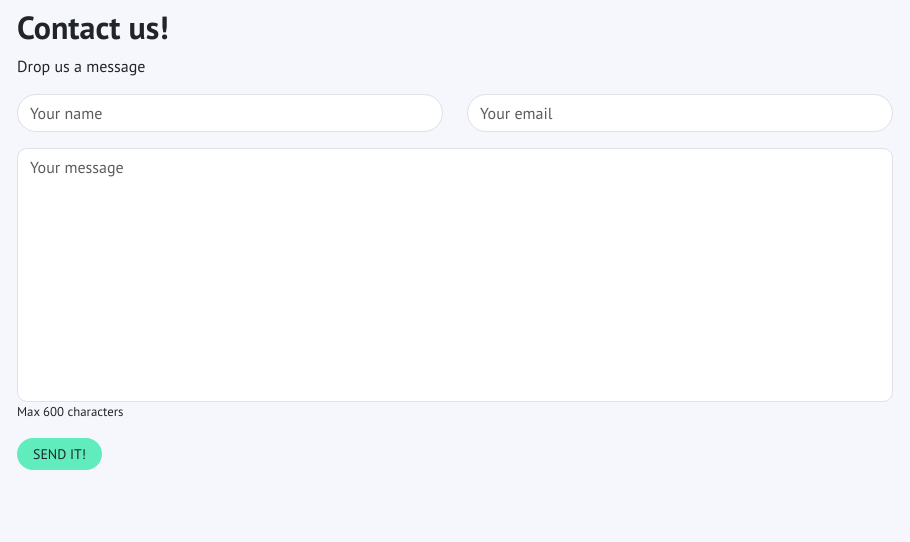
Test: Contact form › display errors if inputs are not correct
Expected: the field with placeholder "Your email" is shown, [467, 94, 893, 132]
Expected: the text box with placeholder "Your message" is shown, [17, 148, 893, 402]
In the field with placeholder "Your name": (230, 113) [17, 94, 443, 132], type "a"
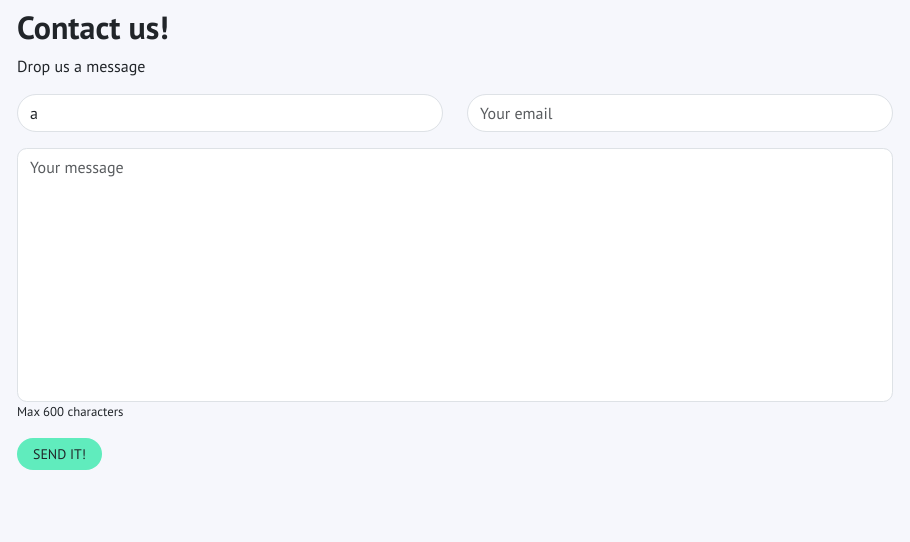
In the field with placeholder "Your email": (680, 113) [467, 94, 893, 132], type "email"
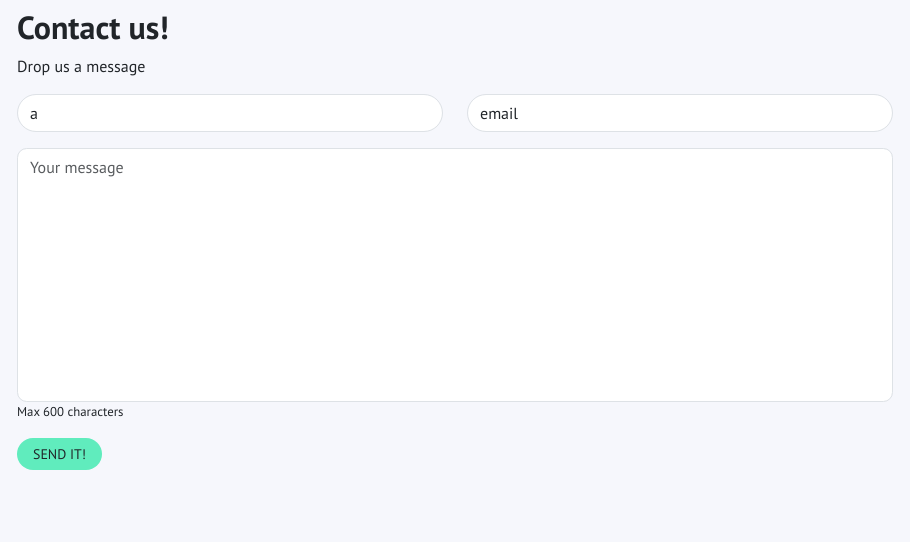
In the text box with placeholder "Your message": (455, 275) [17, 148, 893, 402], type "rer"
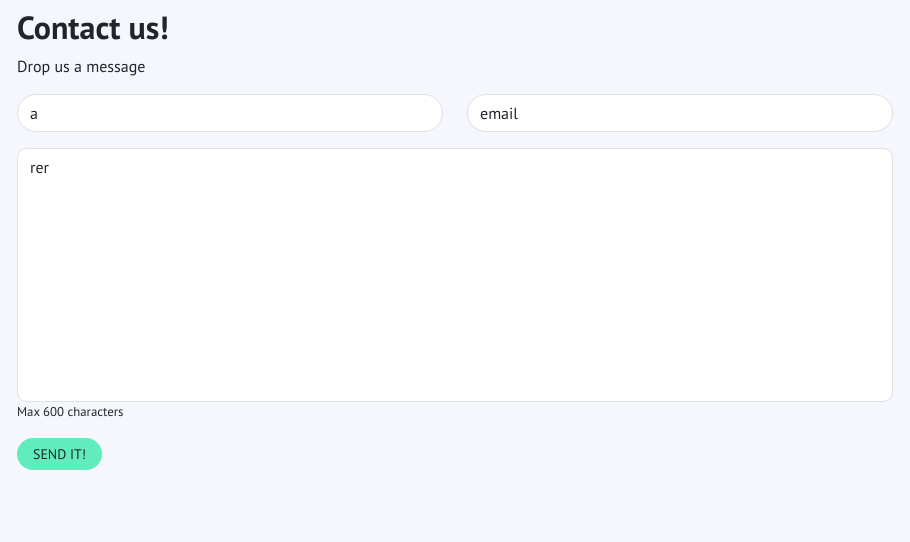
Click the button "Send it!": (60, 454) [17, 438, 102, 470]
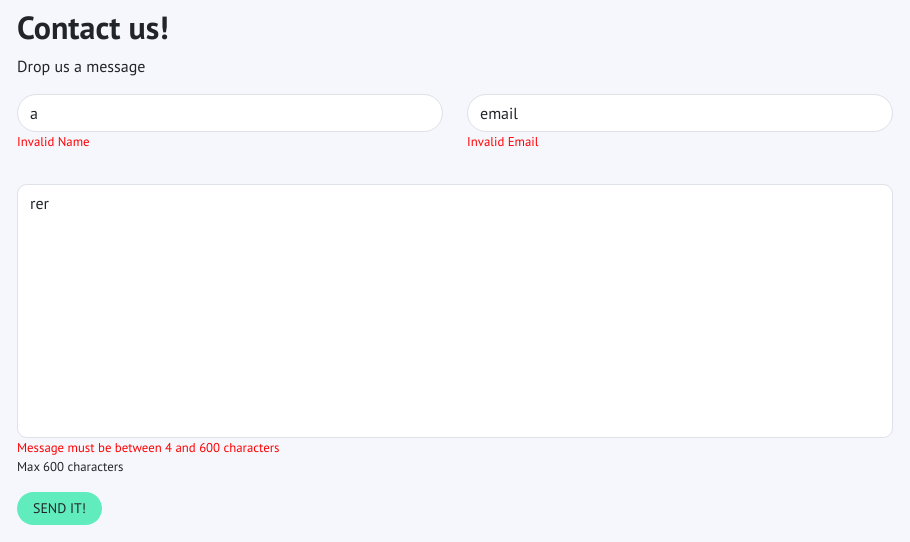
Result: the text "Invalid Name" is shown at [17, 133, 90, 150]
Result: the text "Invalid Email" is shown at [467, 133, 538, 150]
Result: the text "Message must be between 4 and 600 characters" is shown at [17, 439, 280, 456]
